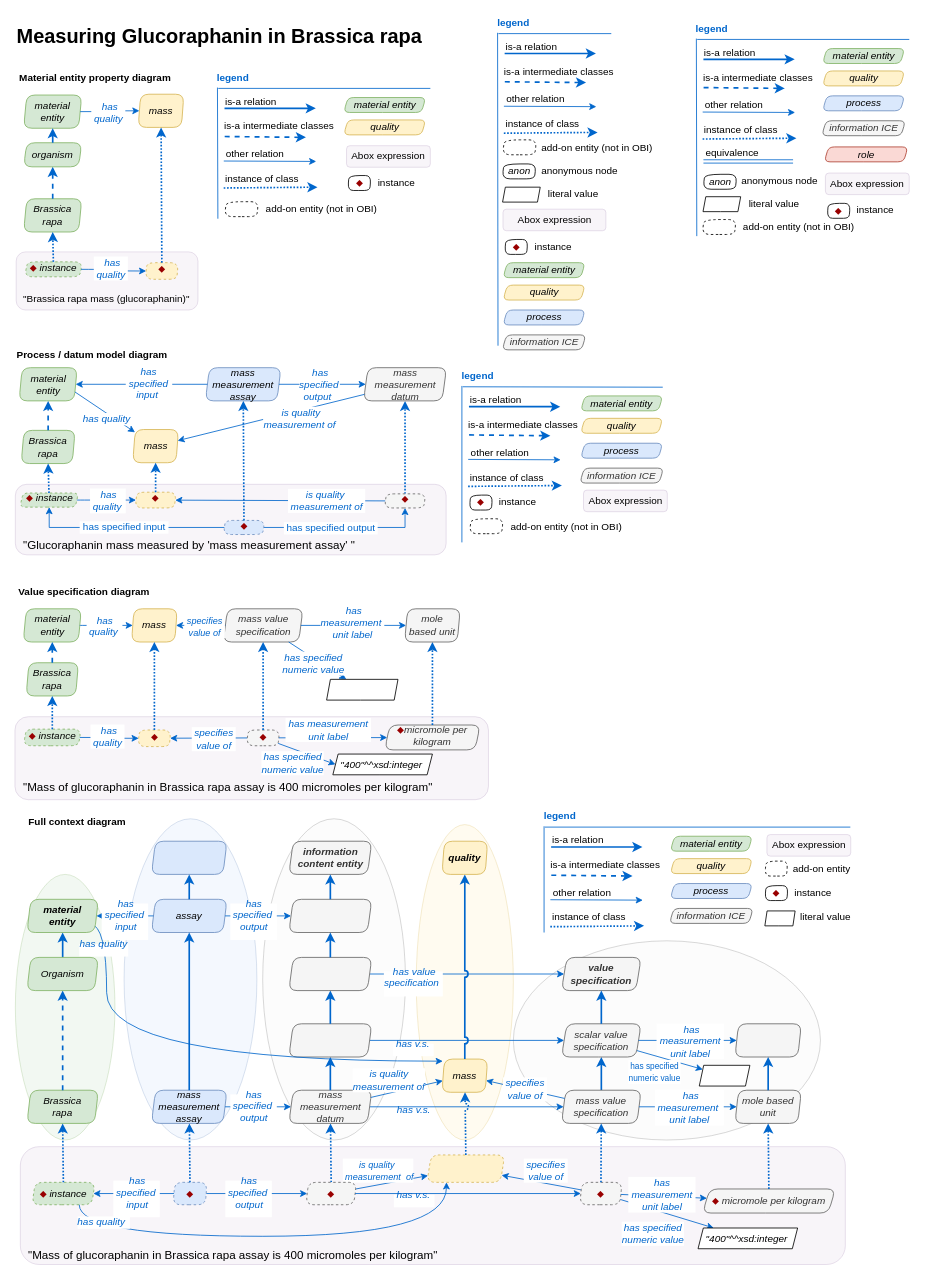
This 925x1279 diagram has some shape labels left out. Here are the shapes that lost their labels. From the top down, the centre of each, then its label:
the point at 362,689: xsd:integer
the point at 189,857: planned process
the point at 330,915: data item
the point at 330,974: measurement datum
the point at 330,1040: scalar measurement datum
the point at 767,1040: unit
the point at 724,1075: owl:real
the point at 465,1168: ⬥ instance mass
